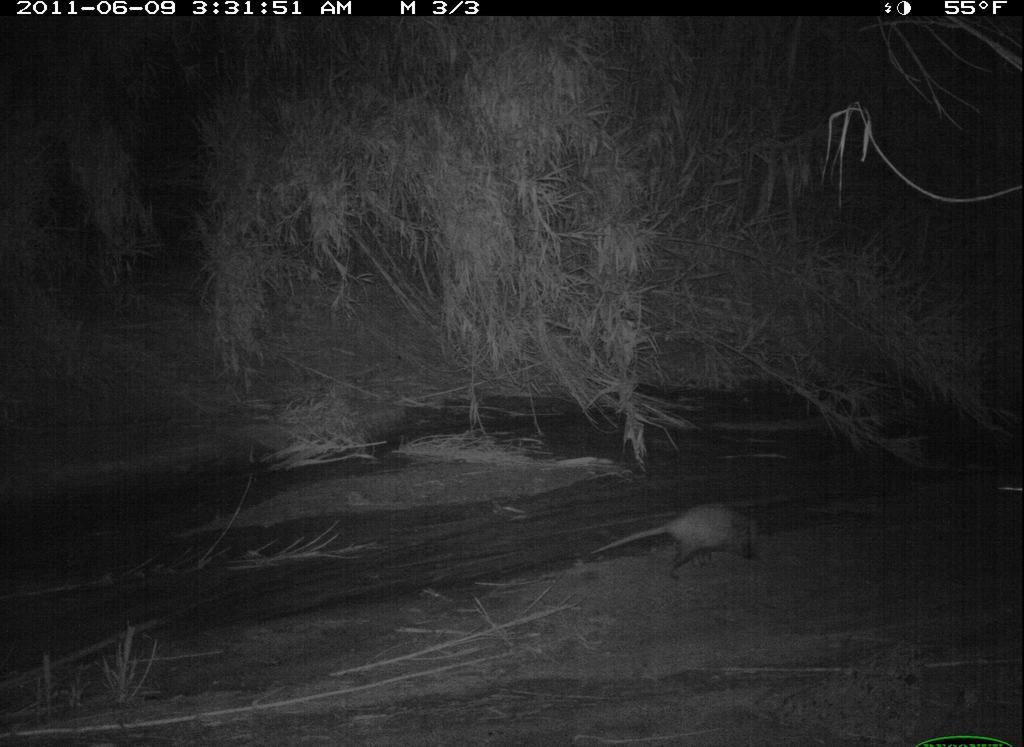opossum: (585, 496, 763, 575)
